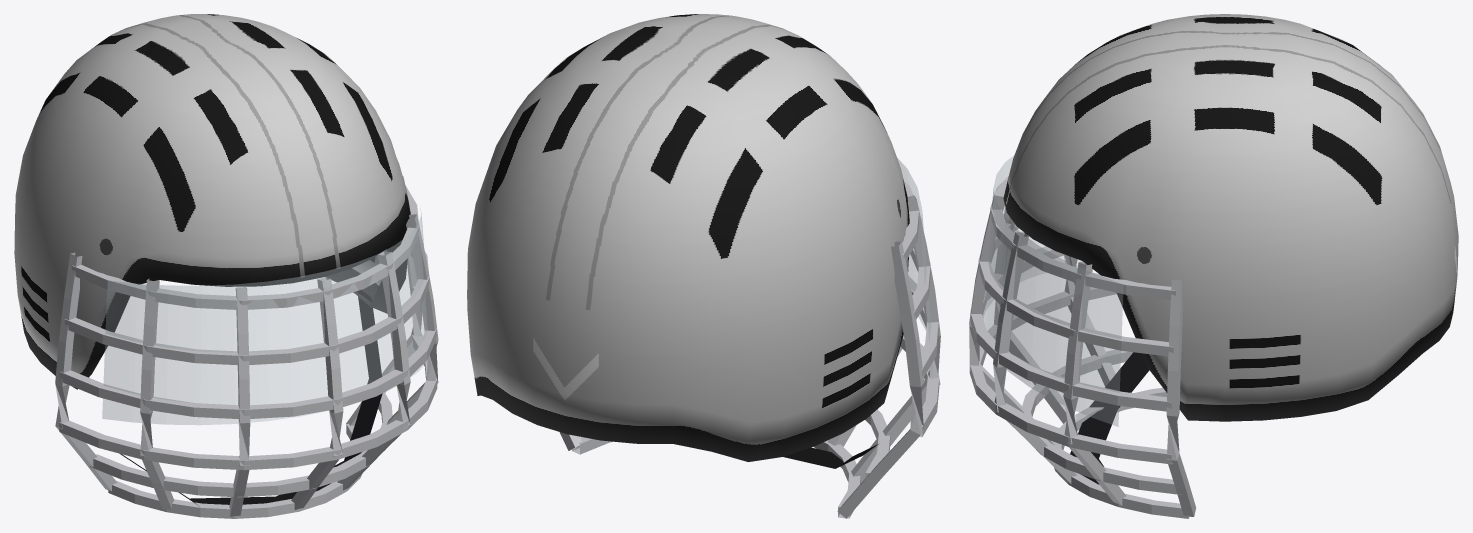
File: casque.glb
3 renders of one model, left to right at view 1: azimuth 30°, elevation 25°; view 2: azimuth 150°, elevation 25°; view 3: azimuth 270°, elevation 25°, orthographic. The views are drawn at different scales.
Parts seen in each view (by area): view 1: Casque, Casque_Grille; view 2: Casque, Casque_Grille; view 3: Casque, Casque_Grille.
Boxes of the visible parts, x1,y1,x2,y2 form: Casque: [14, 14, 429, 506]; Casque_Grille: [55, 176, 438, 518]; Casque: [467, 14, 932, 468]; Casque_Grille: [559, 180, 940, 518]; Casque: [982, 14, 1458, 484]; Casque_Grille: [969, 176, 1196, 518].
Bounding box in the file's own units: 0.2269 × 0.242 × 0.2556.
2 materials, 1 textured.
